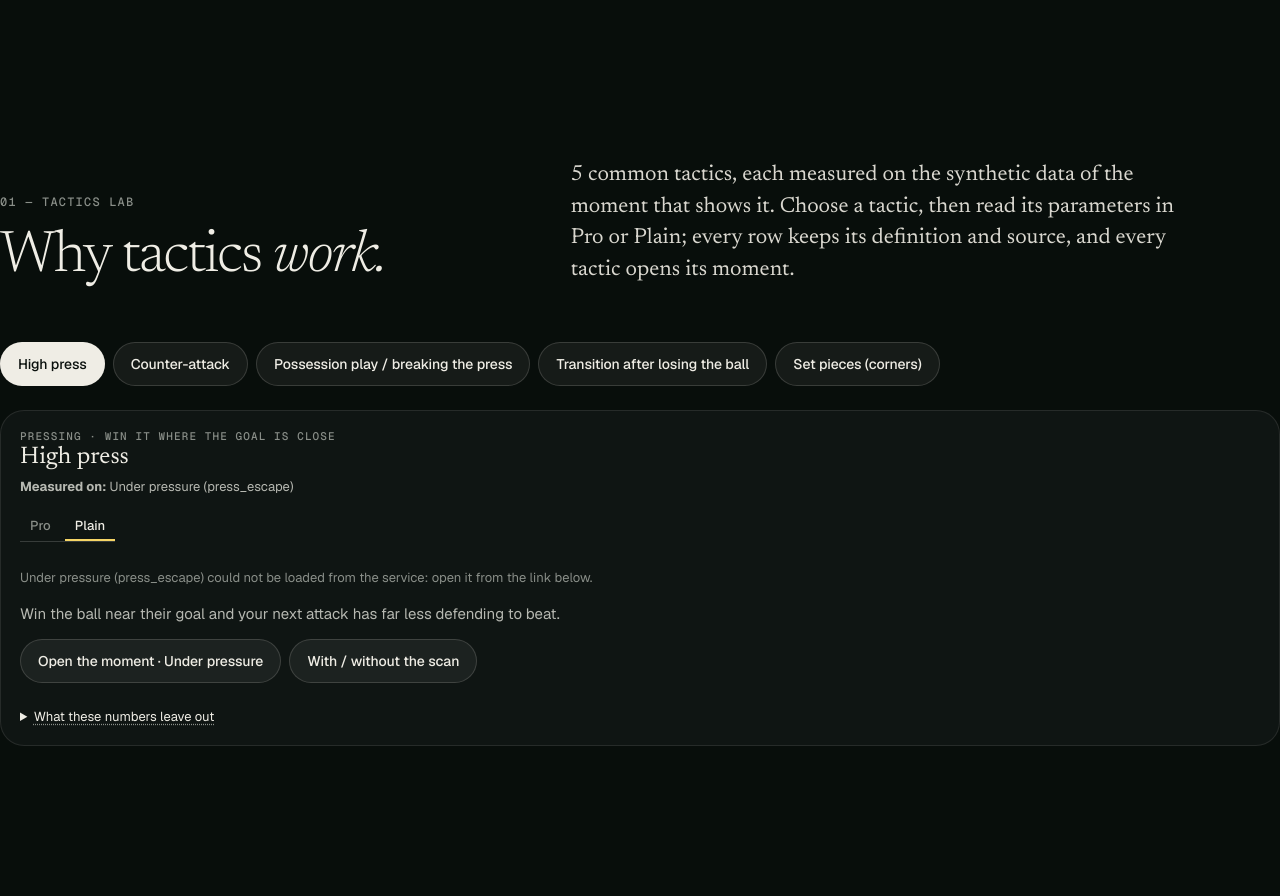
Pro and Plain › switches every parameter row between Plain and Pro without losing the numbers
Click the button "Counter-attack": (180, 364) [113,342,248,386]
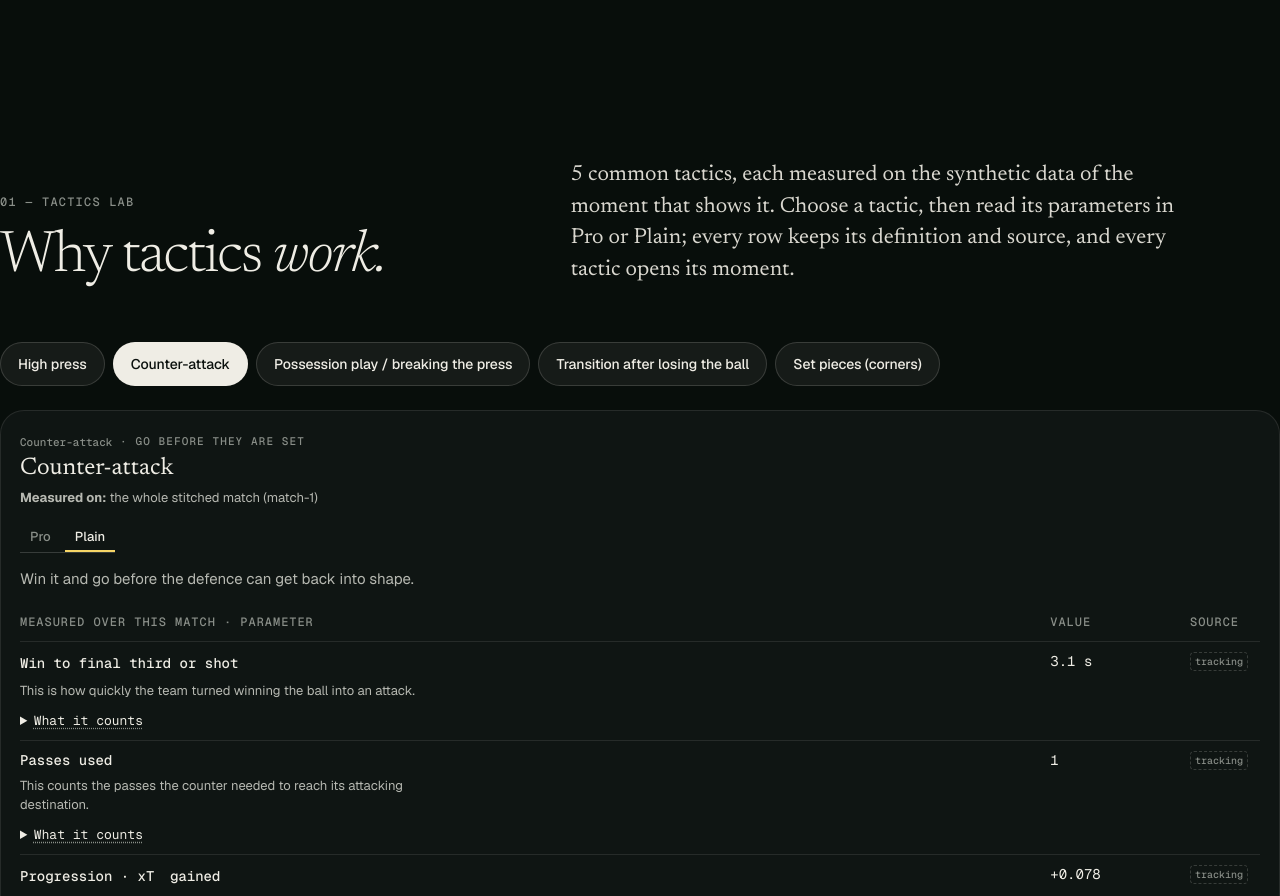
expect the panel shows "Win it and go": met, box [20,569,414,588]
Click the tab "Pro": (40, 537) [20,522,61,552]
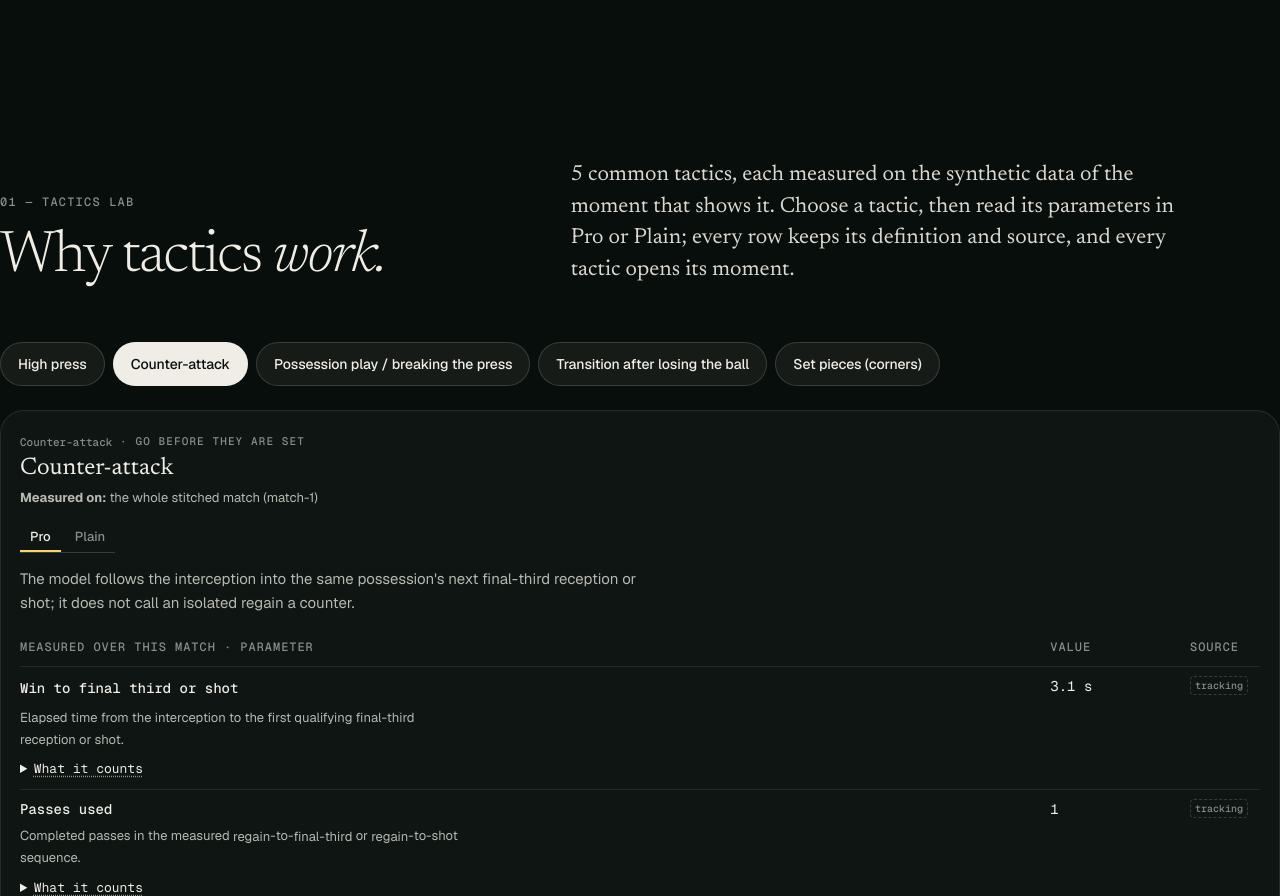
expect the tab "Pro" is selected: met, box [20,522,61,552]
Click the tab "Plain": (90, 537) [65,522,115,552]
(page scrolled)
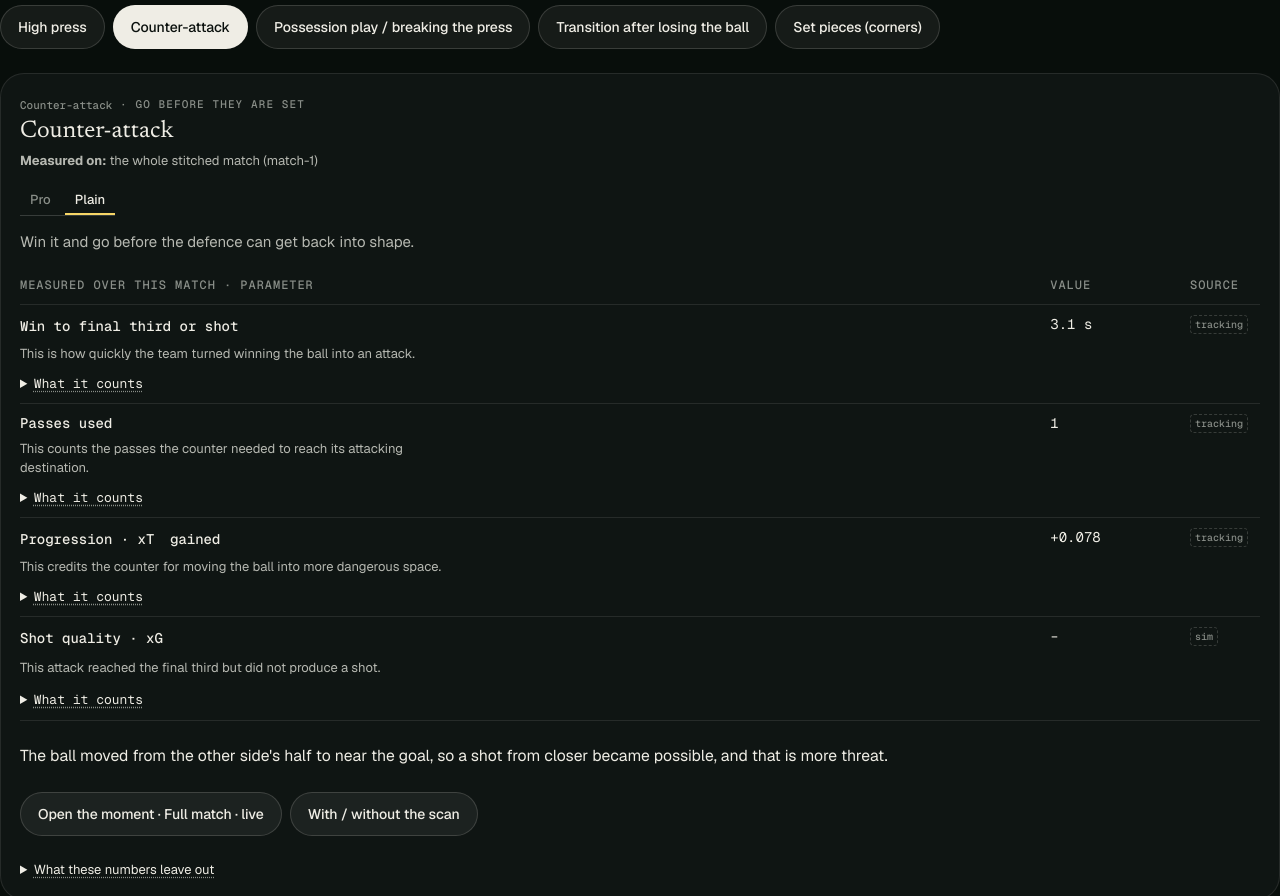
expect the row that starts with "Progression ·" shows "moving the ball into more dangerous space": met, box [20,558,441,575]
